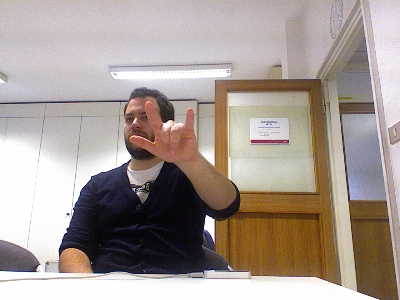我爱你: (126, 99, 199, 164)
